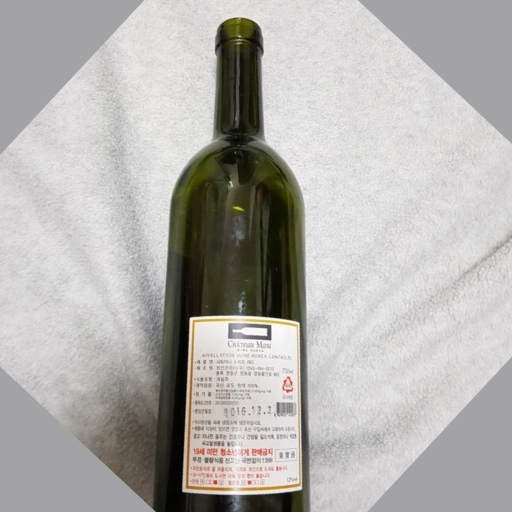Glass_2: (148, 15, 320, 512)
